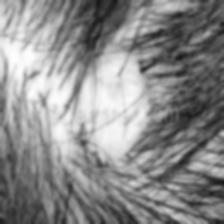Potentially Malignant Skin Tumors: (76, 41, 148, 165)
